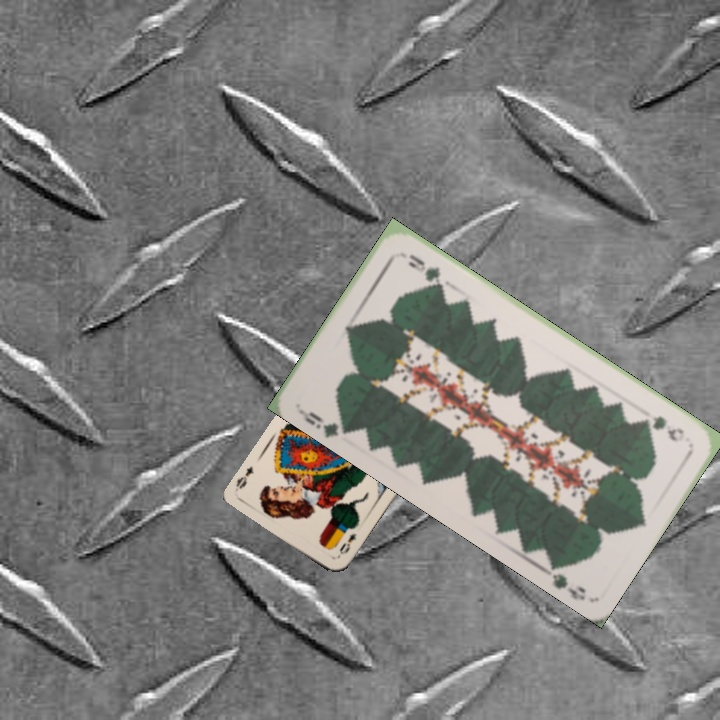EO: (333, 529, 359, 560)
G9: (294, 407, 351, 440), (648, 412, 688, 445)
